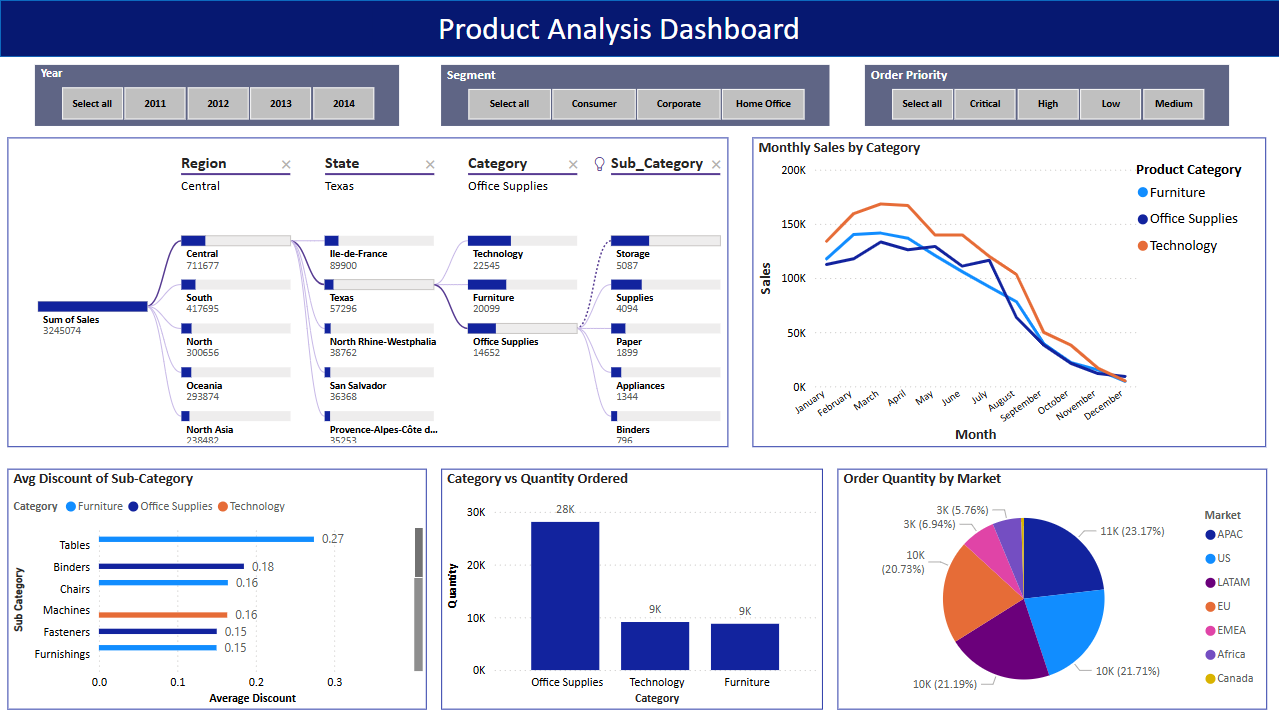

This screenshot's page, from the dashboard's own definition file:
{"tool":"powerbi","page":{"name":"ProductAnanlysis","canvas":[1280,720],"ordinal":1},"visuals":[{"type":"shape","box":[0,0,1280.2,57],"z":0},{"type":"textbox","title":"Product Analysis Dashboard","box":[372.1,9.3,493,38.4],"z":1000},{"type":"slicer","title":"Year","fields":{"Values":["SuperStoreOrders2.order_date.Variation.Date Hierarchy.Year"]},"box":[34.9,65.1,364,60.5],"z":2000},{"type":"slicer","title":"Segment","fields":{"Values":["SuperStoreOrders2.segment"]},"box":[441.9,65.1,388.4,60.5],"z":3000},{"type":"decompositionTreeVisual","fields":{"ExplainBy":["SuperStoreOrders2.region","SuperStoreOrders2.State","SuperStoreOrders2.category","SuperStoreOrders2.Sub_Category"],"Analyze":["Sum(SuperStoreOrders2.Sales)"]},"box":[7.9,137.5,721.1,309.9],"z":4000},{"type":"clusteredBarChart","title":"Avg Discount of Sub-Category","fields":{"Y":["Avg(SuperStoreOrders2.discount)"],"Category":["SuperStoreOrders2.Sub_Category"],"Series":["SuperStoreOrders2.category"]},"box":[7.9,468.7,419.2,241.1],"z":5000},{"type":"columnChart","title":"Category vs Quantity Ordered","fields":{"Y":["Sum(SuperStoreOrders2.quantity)"],"Category":["SuperStoreOrders2.category"]},"box":[441.7,468.7,382,241.1],"z":6000},{"type":"lineChart","title":"Monthly Sales by Category","fields":{"Y":["Sum(SuperStoreOrders2.sales)"],"Category":["SuperStoreOrders2.order_date.Variation.Date Hierarchy.Month"],"Series":["SuperStoreOrders2.category"]},"box":[752.7,137.5,513.8,309.9],"z":7000},{"type":"pieChart","title":"Order Quantity by Market","fields":{"Category":["SuperStoreOrders2.Market"],"Y":["Sum(SuperStoreOrders2.quantity)"]},"box":[837.2,468.7,429.3,241.1],"z":8000},{"type":"slicer","title":"Order Priority","fields":{"Values":["SuperStoreOrders2.order_priority"]},"box":[865.1,65.1,364,60.5],"z":9000}]}

Visuals, with their boxes in screenshot pixels (x1, y1, x2, y2), scaled from the page's 1280x720 canvas onto the 1279x717 screenshot:
shape: 0:0:1278:57
"Product Analysis Dashboard" textbox: 372:9:864:48
"Year" slicer: 35:65:399:125
"Segment" slicer: 442:65:830:125
decompositionTreeVisual - SuperStoreOrders2.region x SuperStoreOrders2.State: 8:137:728:446
"Avg Discount of Sub-Category" clusteredBarChart: 8:467:427:707
"Category vs Quantity Ordered" columnChart: 441:467:823:707
"Monthly Sales by Category" lineChart: 752:137:1266:446
"Order Quantity by Market" pieChart: 837:467:1266:707
"Order Priority" slicer: 864:65:1228:125
